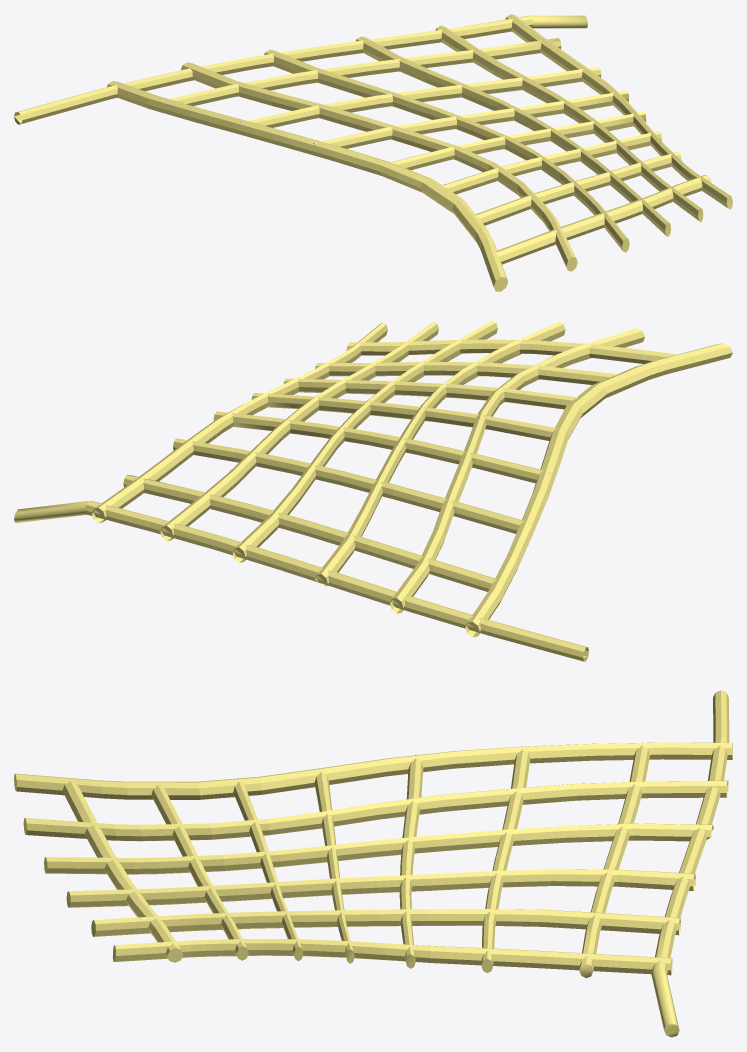
File: Fishnet3.fbx
The picture shows the model from 3 angles, top to bottom: view 1: azimuth 30°, elevation 25°; view 2: azimuth 150°, elevation 25°; view 3: azimuth 270°, elevation 25°; orthographic projection. The views are drawn at different scales.
Parts seen in each view (by area): view 1: Fishnet_003; view 2: Fishnet_003; view 3: Fishnet_003.
Part boxes in pixels (x1,y1,x2,y2): Fishnet_003: (14,14,732,291); Fishnet_003: (14,320,732,661); Fishnet_003: (14,690,732,1037).
Bounding box in the file's own units: 199 × 21.57 × 196.
